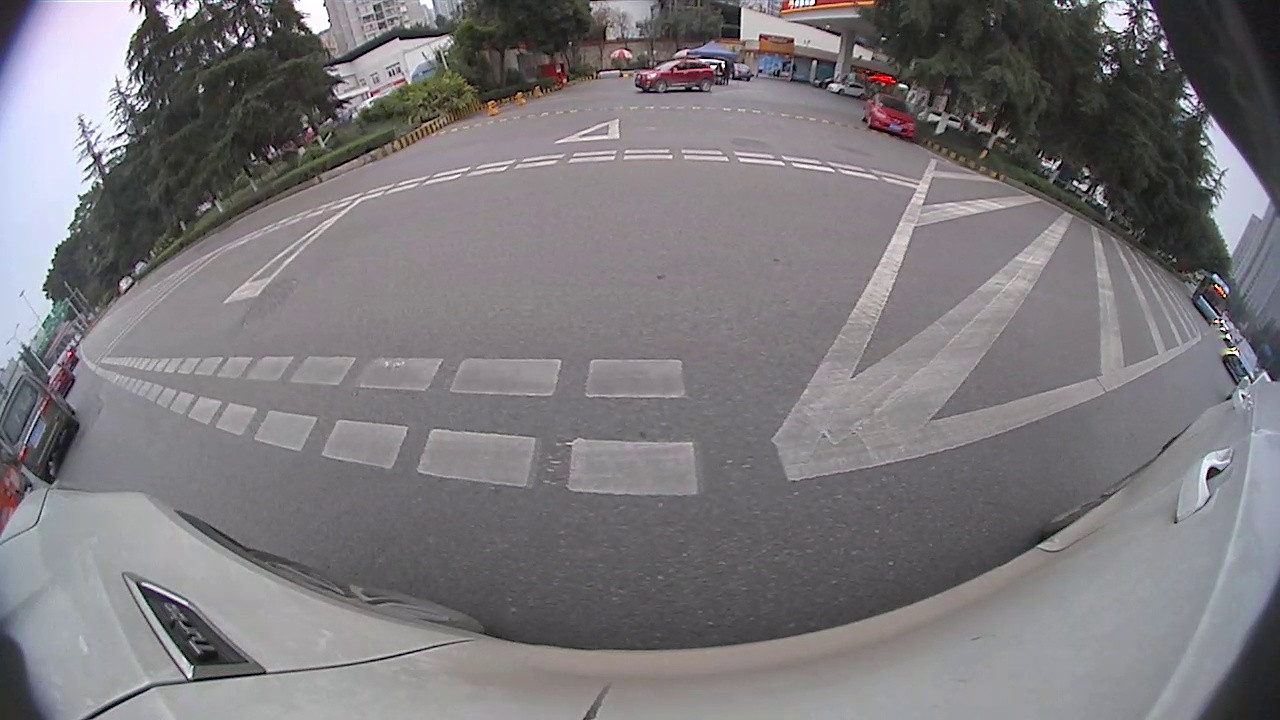bus: (1189, 267, 1237, 326)
car: (0, 363, 82, 483), (632, 51, 714, 98), (861, 90, 921, 142), (1220, 334, 1261, 393)
front: (655, 78, 668, 92)
rear: (697, 78, 711, 92)
